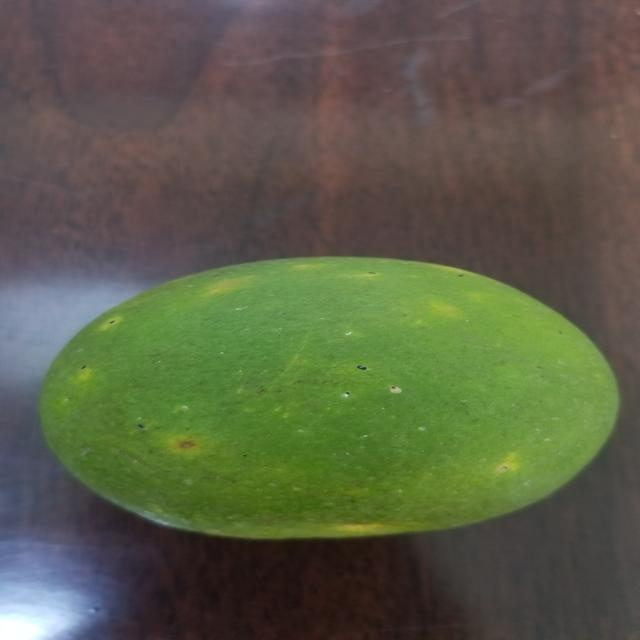agrume: (36, 254, 604, 538)
